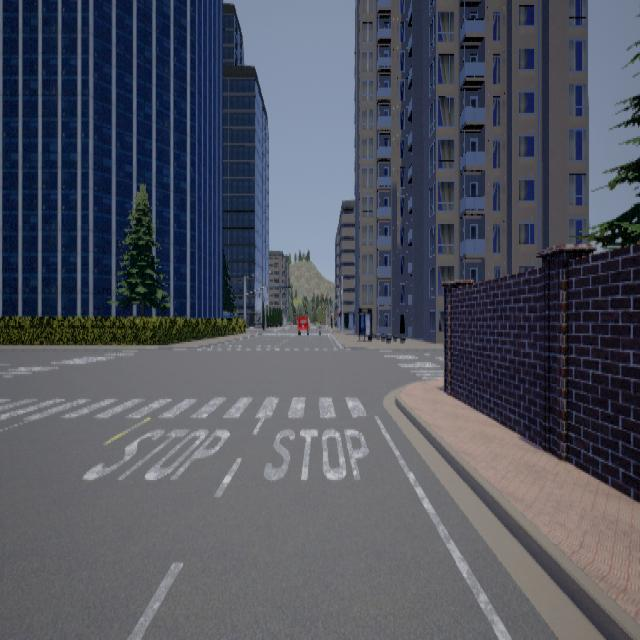traffic_light: (337, 288, 340, 295), (339, 307, 341, 313)
vehicle: (296, 312, 310, 334)
